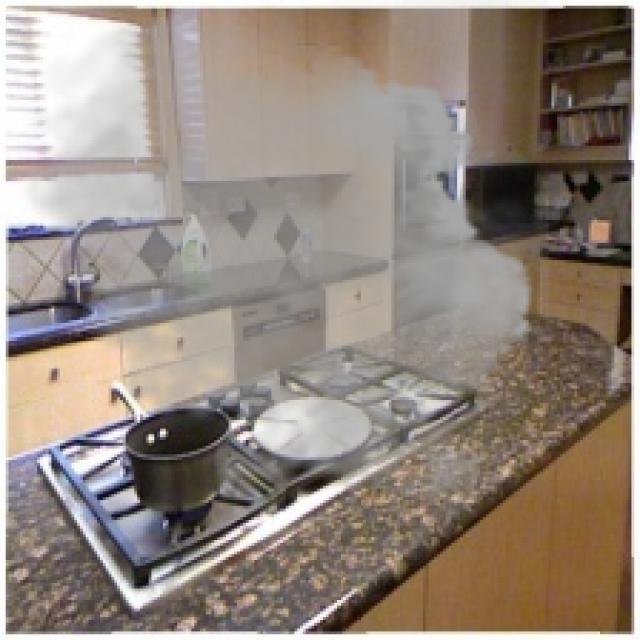smoke: (3, 0, 548, 520)
